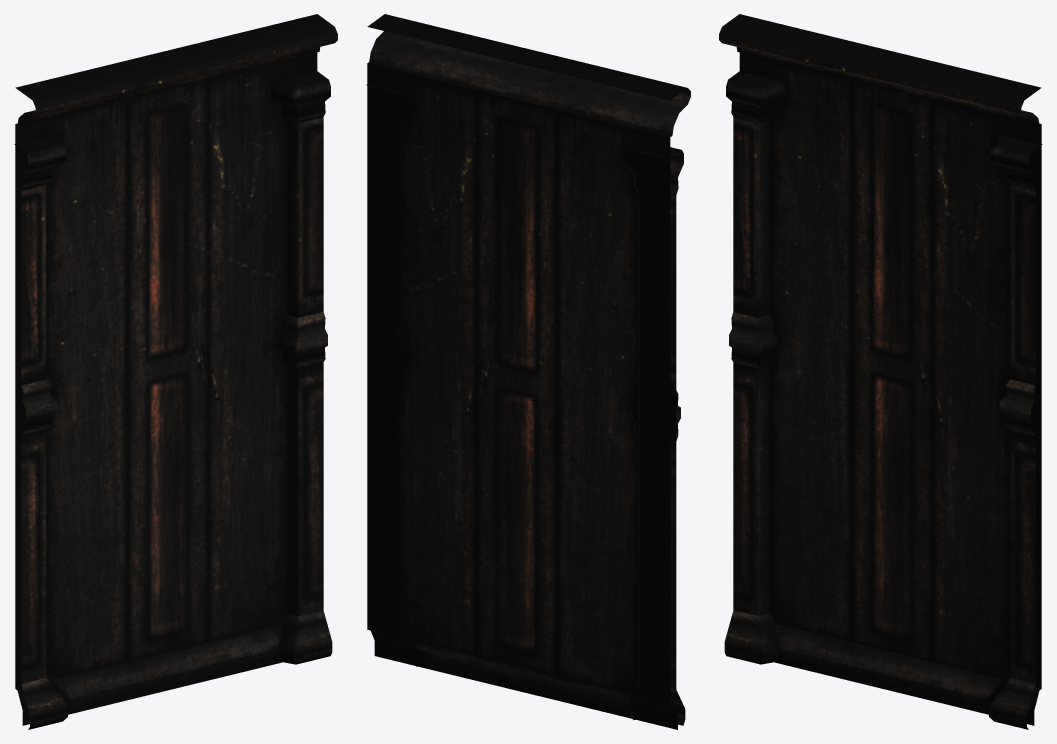
The model's file is short02_rotten.dae.
3 renders of one model, left to right at view 1: azimuth 30°, elevation 25°; view 2: azimuth 150°, elevation 25°; view 3: azimuth 330°, elevation 25°, orthographic.
Parts seen in each view (by area): view 1: short02; view 2: short02; view 3: short02.
Part boxes in pixels (<box>): short02: <box>14,14,337,729</box>; short02: <box>366,14,690,729</box>; short02: <box>719,14,1042,729</box>.
Bounding box in the file's own units: 2 × 4 × 0.2475.
